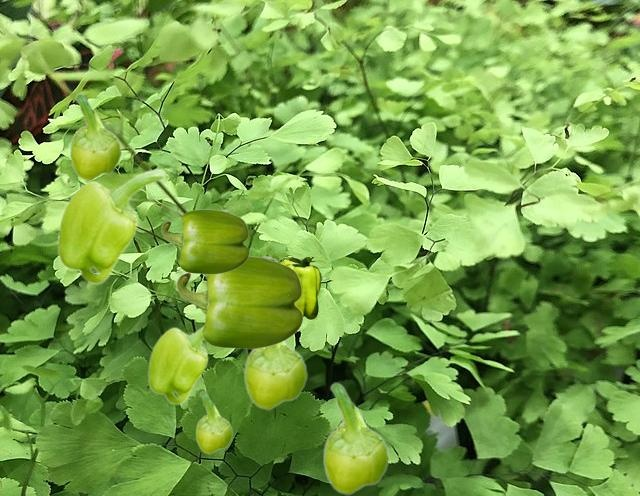bell_pepper: (56, 167, 166, 284), (176, 255, 302, 348), (322, 382, 389, 494), (161, 209, 248, 273), (147, 324, 210, 404), (69, 93, 121, 180), (243, 340, 307, 409), (278, 257, 325, 319), (195, 391, 232, 453)
